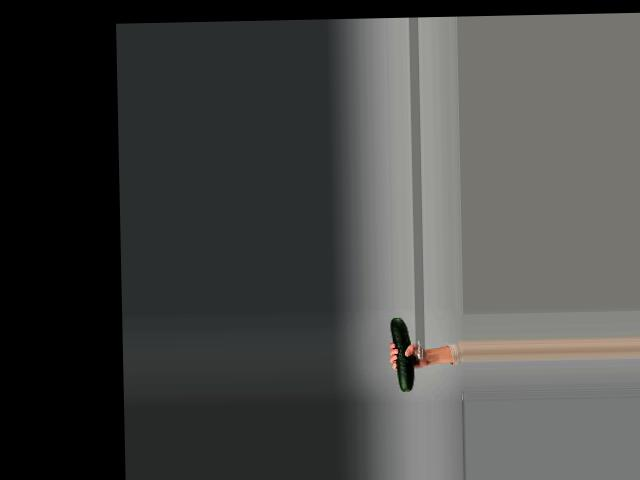cucumber: (390, 316, 414, 390)
